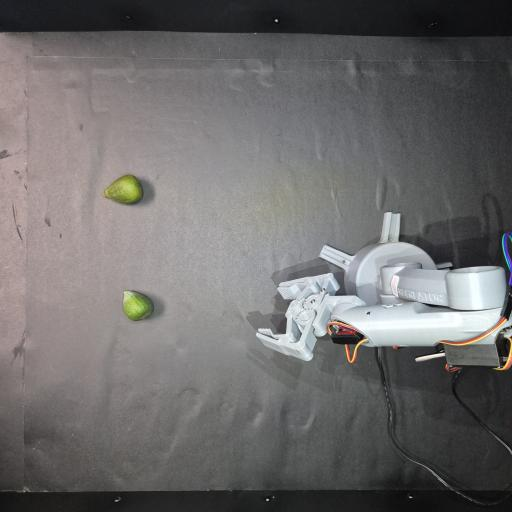higo: (104, 175, 143, 204), (123, 291, 153, 321)
